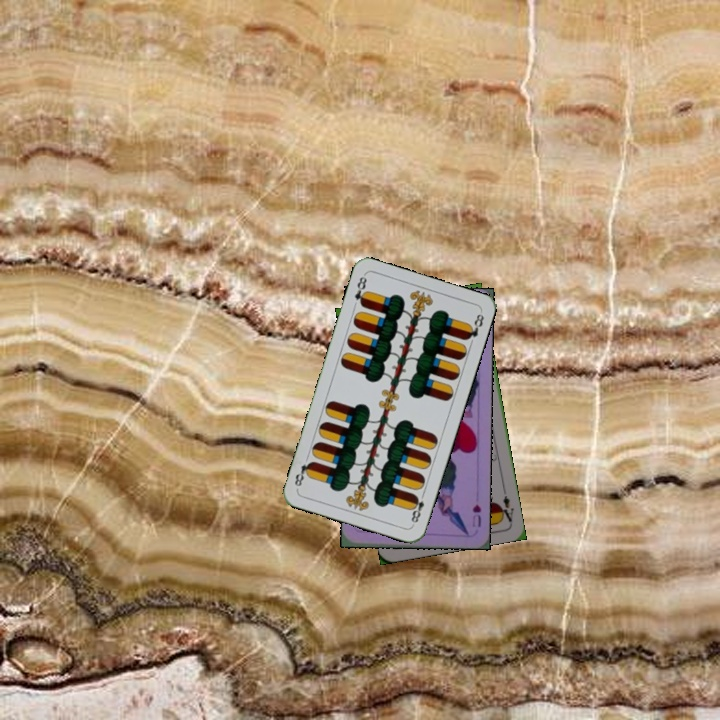E8: (407, 488, 427, 528), (350, 272, 370, 309)
EA: (496, 485, 517, 525)
HU: (468, 500, 483, 529)
